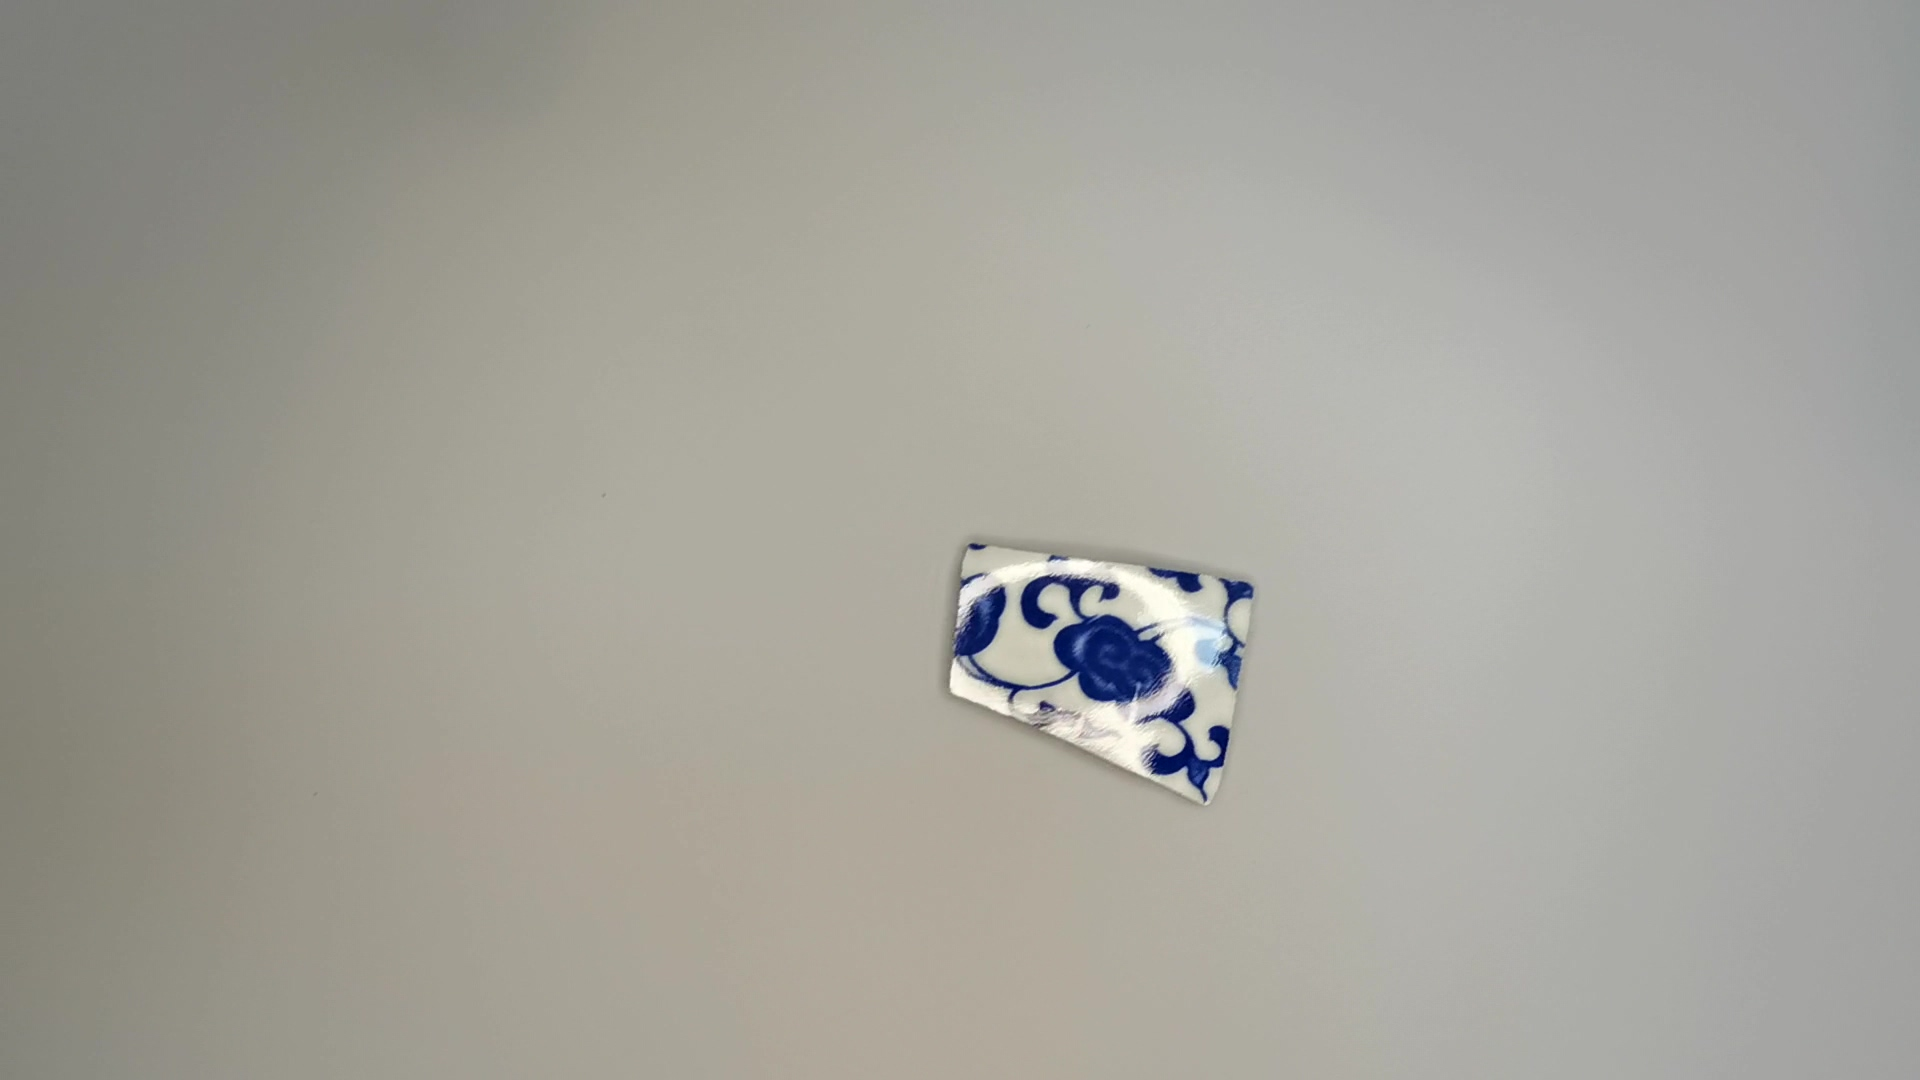ceramic: (948, 537, 1266, 806)
